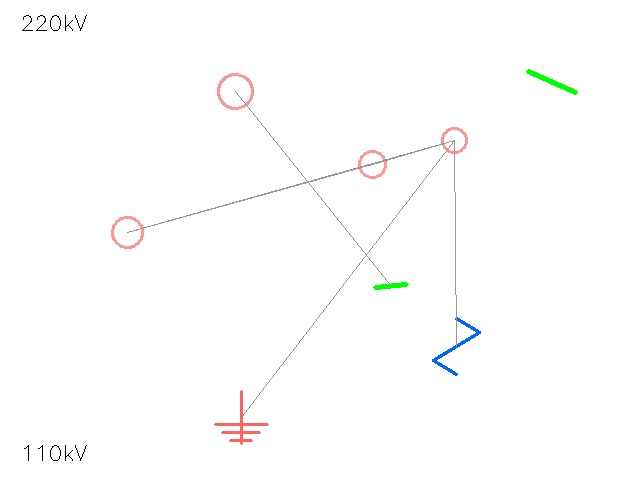busbar: (520, 50, 584, 114), (372, 267, 410, 305)
circuit_breaker: (429, 319, 483, 373)
current_transformer: (430, 116, 478, 164)
disconnect_switch: (97, 202, 157, 262), (345, 137, 399, 191)
ground: (215, 391, 267, 443)
voltage_transformer: (201, 57, 269, 125)
